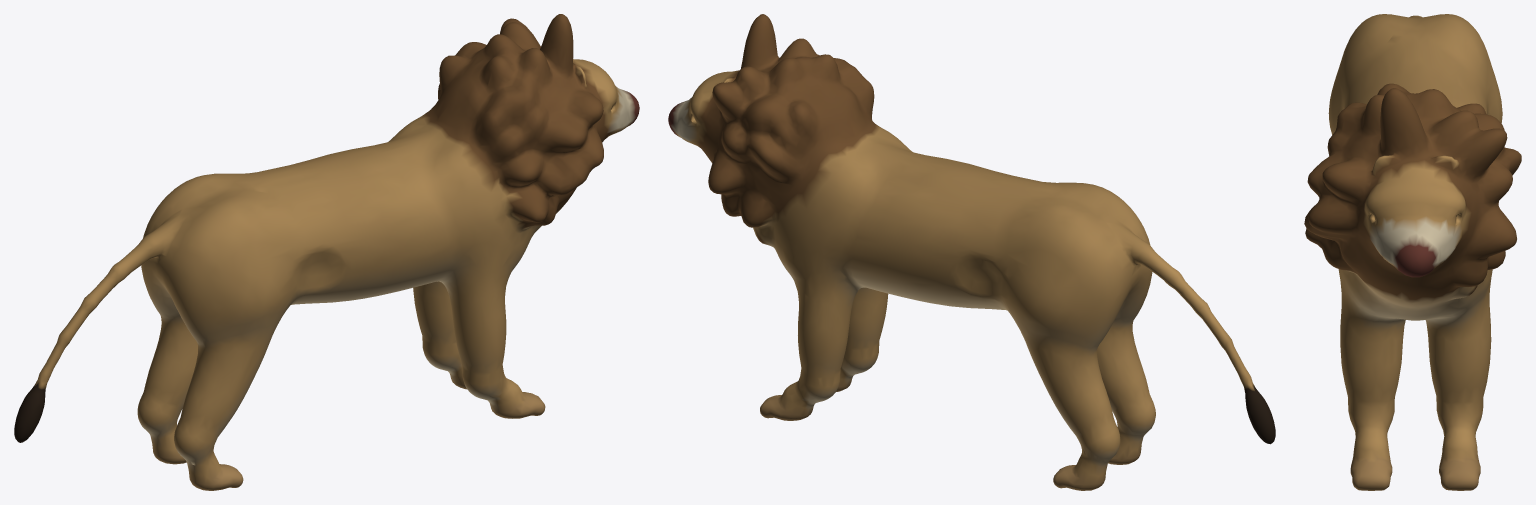
File: lion.glb
The picture shows the model from 3 angles, left to right: view 1: azimuth 30°, elevation 25°; view 2: azimuth 150°, elevation 25°; view 3: azimuth 270°, elevation 25°; orthographic projection. The views are drawn at different scales.
Visible parts, largest first — view 1: lion; view 2: lion; view 3: lion.
Part boxes in pixels (x1=…): lion: x1=14, y1=14, x2=639, y2=490; lion: x1=668, y1=14, x2=1275, y2=490; lion: x1=1304, y1=14, x2=1521, y2=490.
Bounding box in the file's own units: 2.38 × 1.39 × 0.6488.
